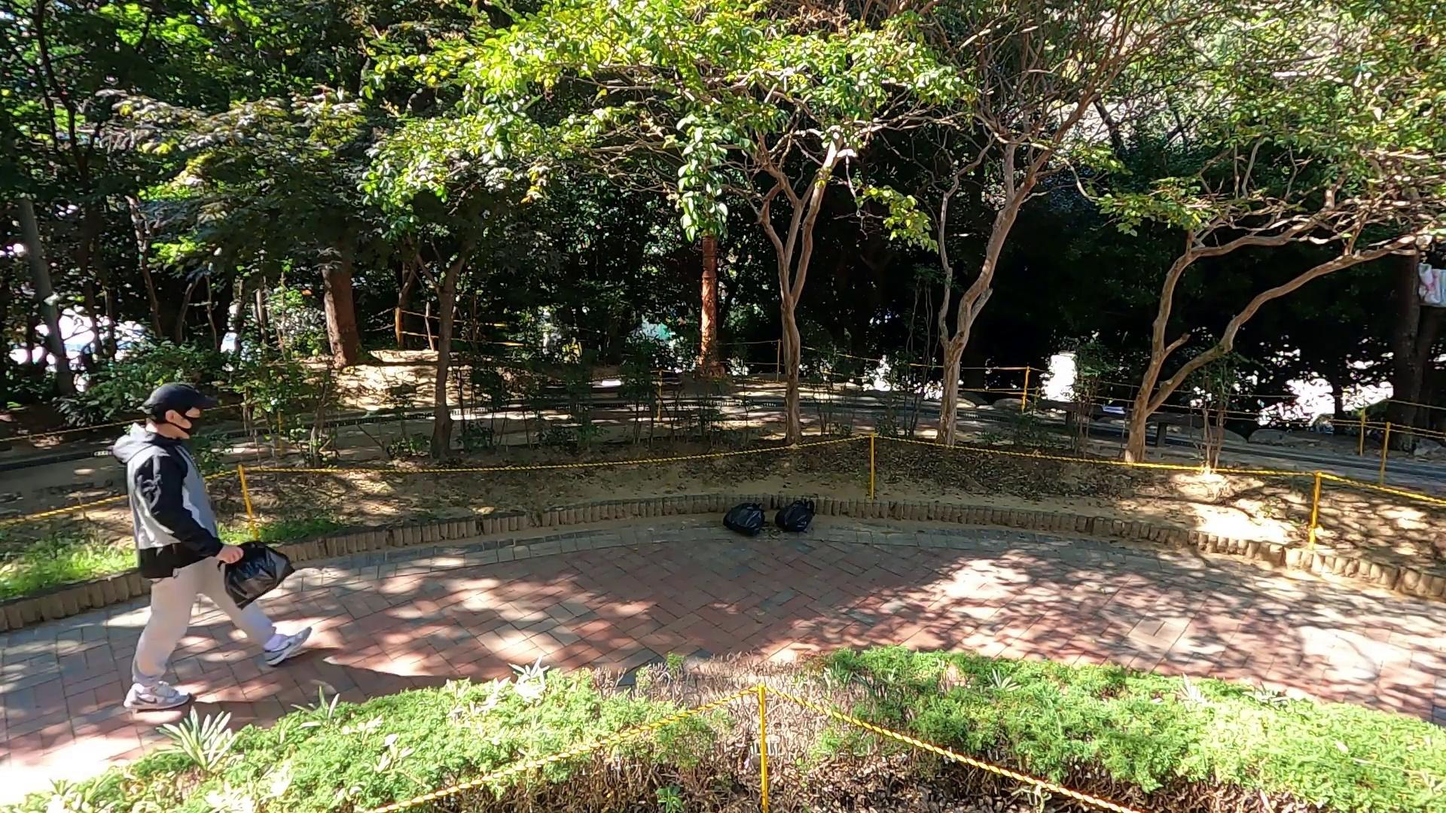person: (103, 369, 315, 721)
trash: (214, 544, 294, 604), (724, 499, 774, 537), (778, 499, 814, 535)
